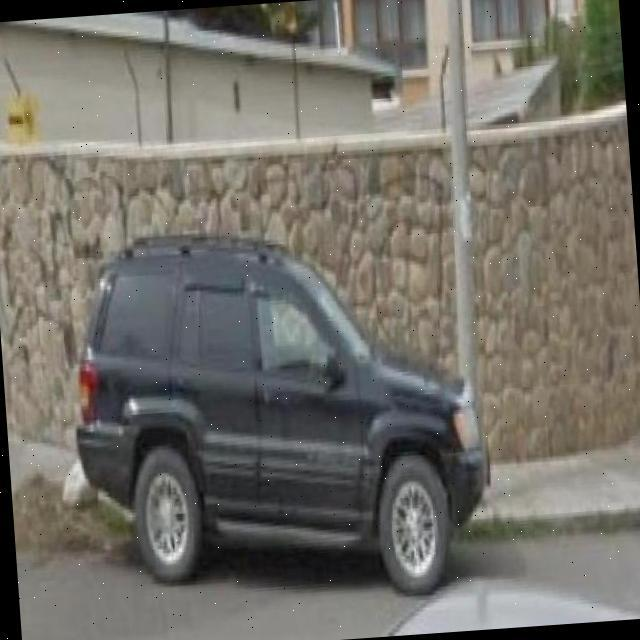car: (74, 239, 481, 593)
